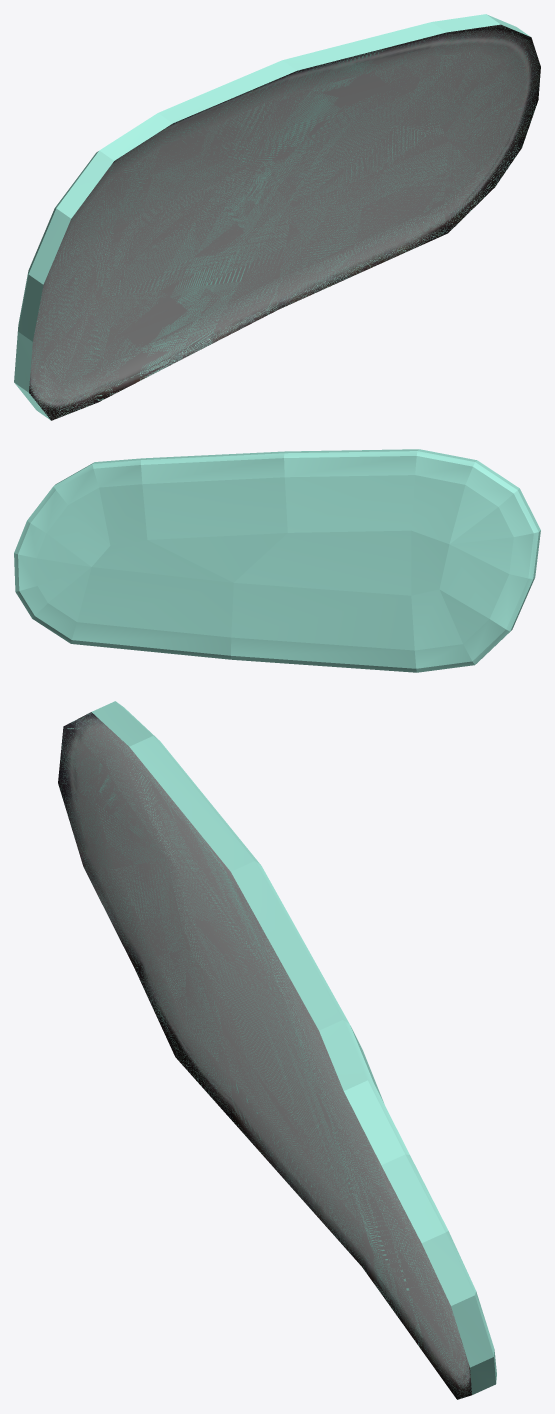
The model's file is SampleCar_01_Front_L.fbx.
3 renders of one model, top to bottom at view 1: azimuth 30°, elevation 25°; view 2: azimuth 150°, elevation 25°; view 3: azimuth 270°, elevation 25°, orthographic. The views are drawn at different scales.
Parts seen in each view (by area): view 1: glass_LOD0, UTM_glass; view 2: UTM_glass; view 3: glass_LOD0, UTM_glass.
Boxes of the visible parts, x1,y1,x2,y2 form: glass_LOD0: [29, 24, 540, 420]; UTM_glass: [14, 14, 539, 420]; UTM_glass: [14, 449, 540, 672]; glass_LOD0: [58, 712, 471, 1399]; UTM_glass: [60, 701, 496, 1399].
Bounding box in the file's own units: 32.77 × 14.59 × 14.45.
